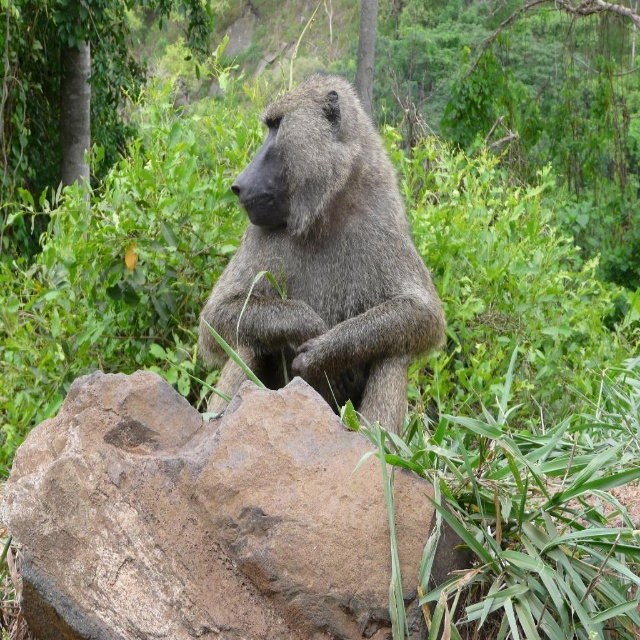Monkey: (187, 66, 448, 454)
